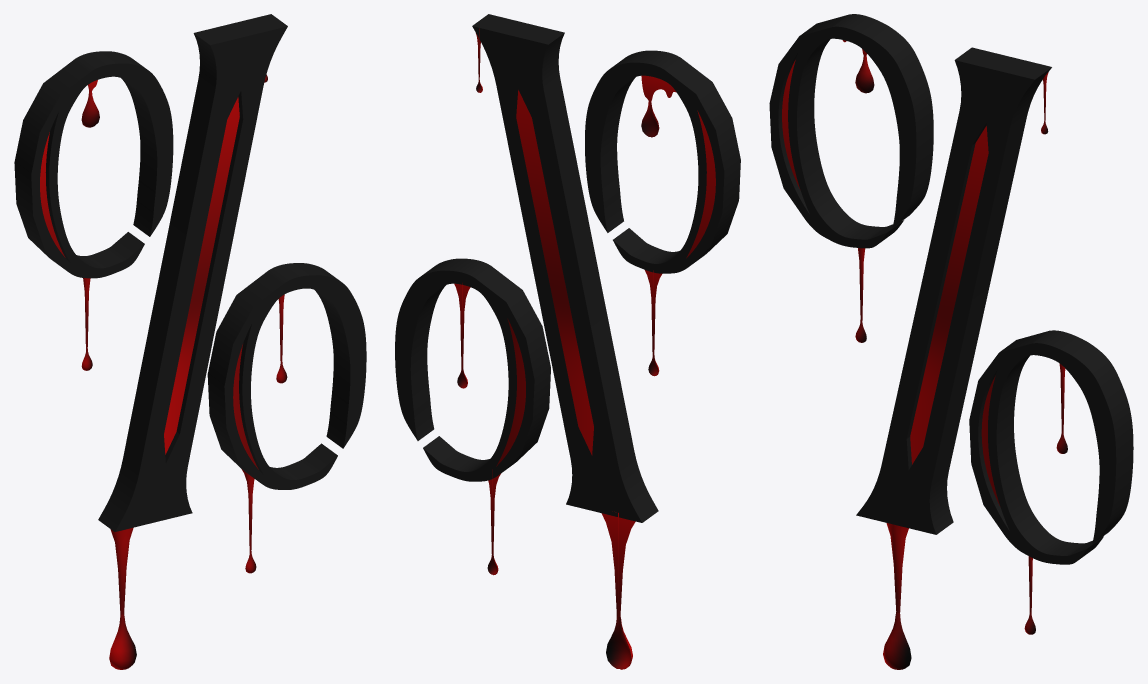
The model's file is Interest.FBX.
The picture shows the model from 3 angles, left to right: view 1: azimuth 30°, elevation 25°; view 2: azimuth 150°, elevation 25°; view 3: azimuth 330°, elevation 25°; orthographic projection. The views are drawn at different scales.
Parts seen in each view (by area): view 1: Interest, Interest_Element, Blood_240, Blood_242; view 2: Interest, Interest_Element, Blood_240, Blood_238, Blood_279, Blood_245, Blood_242; view 3: Interest, Interest_Element, Blood_240.
Part boxes in pixels (x1,y1,x2,y2): Interest: (14, 14, 366, 531); Interest_Element: (40, 97, 258, 469); Blood_240: (109, 527, 136, 669); Blood_242: (241, 469, 256, 573); Interest: (395, 14, 740, 522); Interest_Element: (496, 90, 715, 466); Blood_240: (601, 513, 635, 669); Blood_238: (641, 75, 676, 137); Blood_279: (645, 270, 662, 376); Blood_245: (454, 283, 470, 388); Blood_242: (487, 469, 500, 575); Interest: (769, 14, 1133, 564); Interest_Element: (782, 60, 1000, 506); Blood_240: (883, 523, 911, 669).
Size of the model in its own units: 57.78 by 103 by 5.04.
2 materials, 1 textured.
